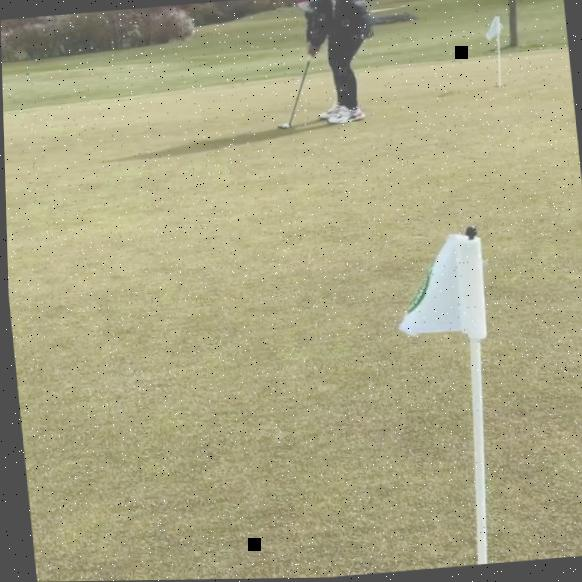ClubHead: (276, 124, 292, 130)
GolfBall: (281, 124, 287, 129)
